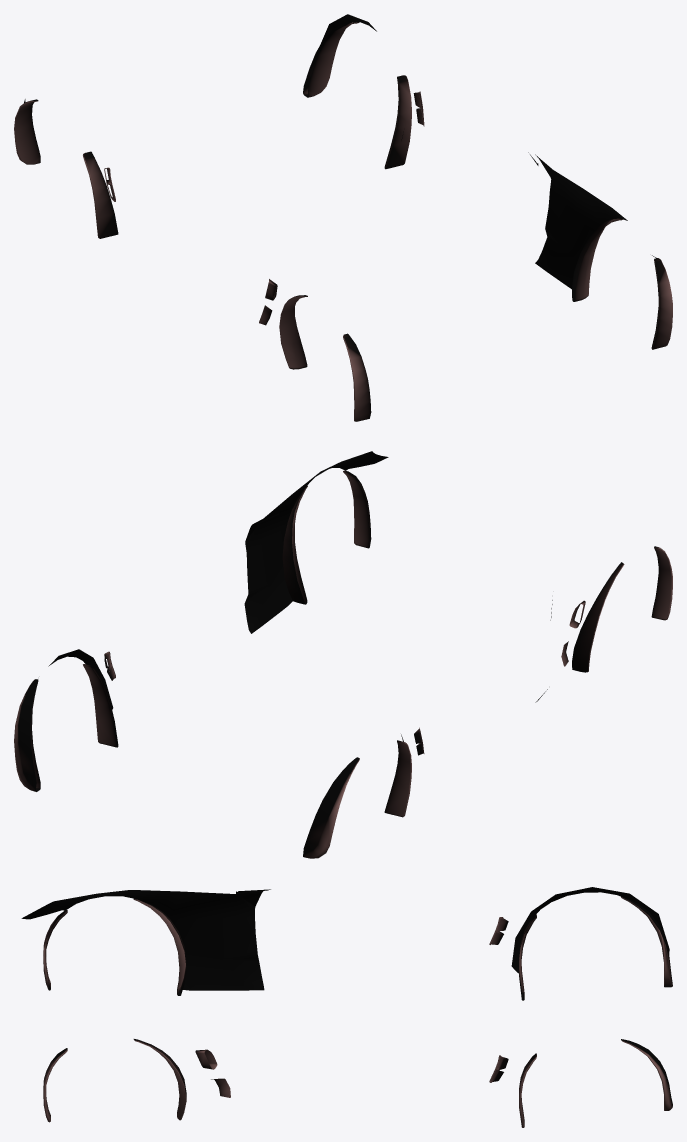
The model's file is Zr1_Fender_01_Trim.fbx.
3 renders of one model, top to bottom at view 1: azimuth 30°, elevation 25°; view 2: azimuth 150°, elevation 25°; view 3: azimuth 270°, elevation 25°, orthographic. The views are drawn at different scales.
Parts seen in each view (by area): view 1: Zr1_Fender_01_Trim; view 2: Zr1_Fender_01_Trim; view 3: Zr1_Fender_01_Trim.
Boxes of the visible parts, x1,y1,x2,y2 form: Zr1_Fender_01_Trim: (14,14,672,421); Zr1_Fender_01_Trim: (14,451,672,858); Zr1_Fender_01_Trim: (21,887,672,1127).
Bounding box in the file's own units: 192 × 68.91 × 368.
